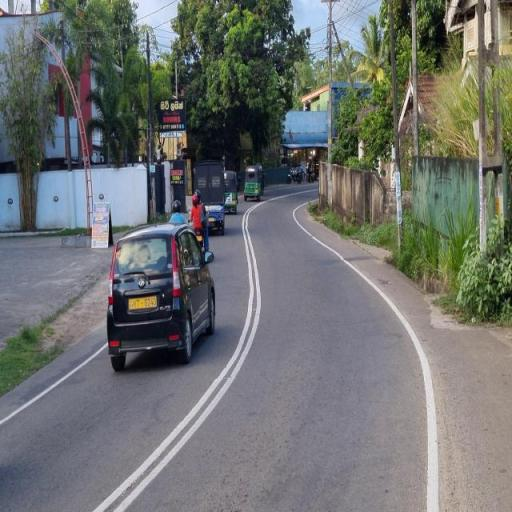double_white_line: (94, 203, 262, 511)
